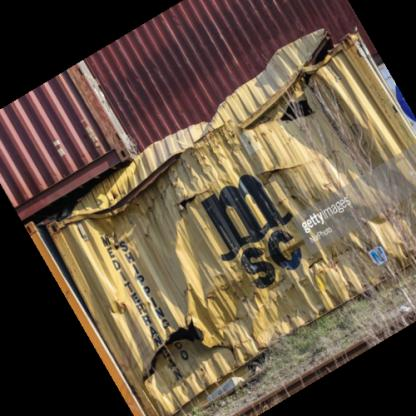Damage: (233, 26, 355, 156), (123, 290, 254, 388), (74, 150, 218, 222), (299, 230, 369, 274), (267, 178, 309, 215)
